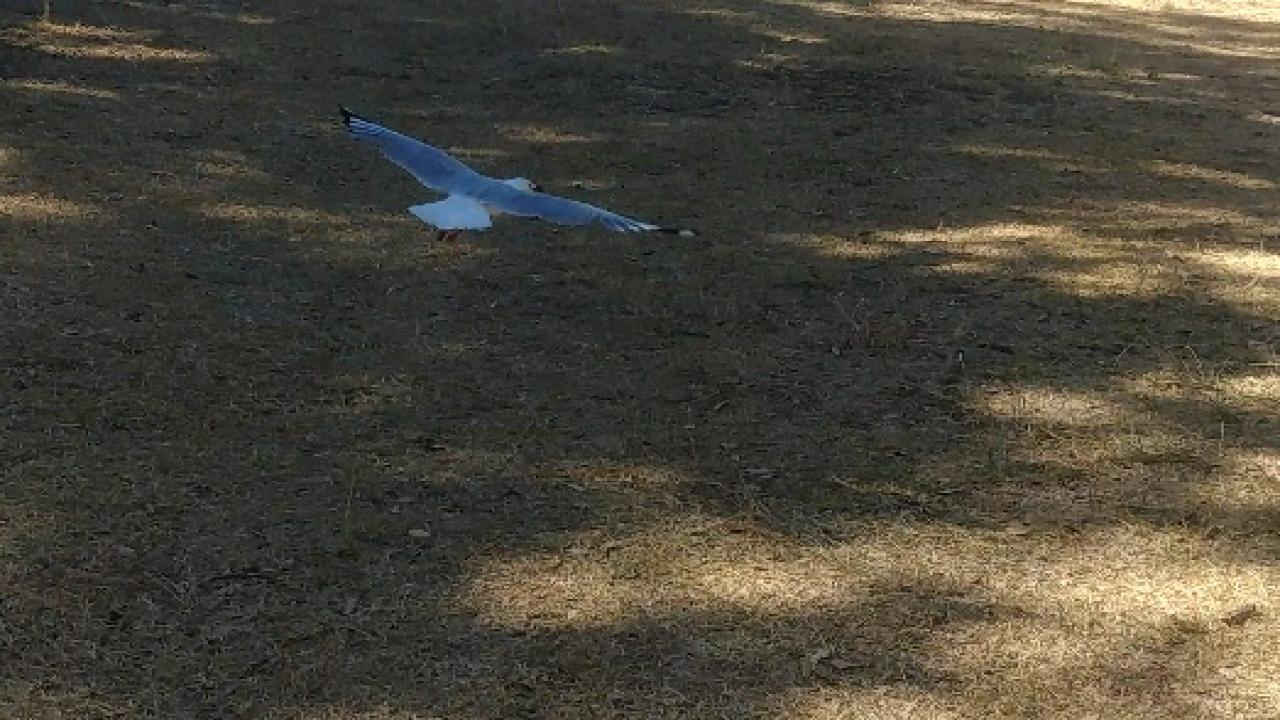Bird: (329, 94, 701, 257)
